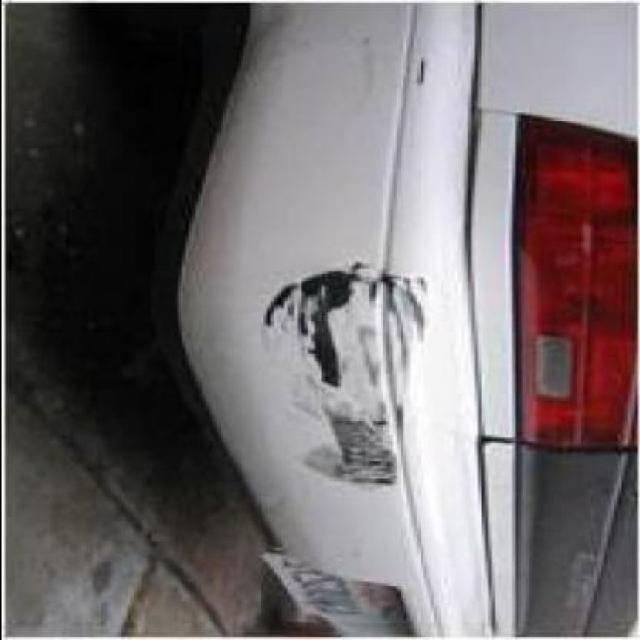damage: (259, 259, 432, 494)
